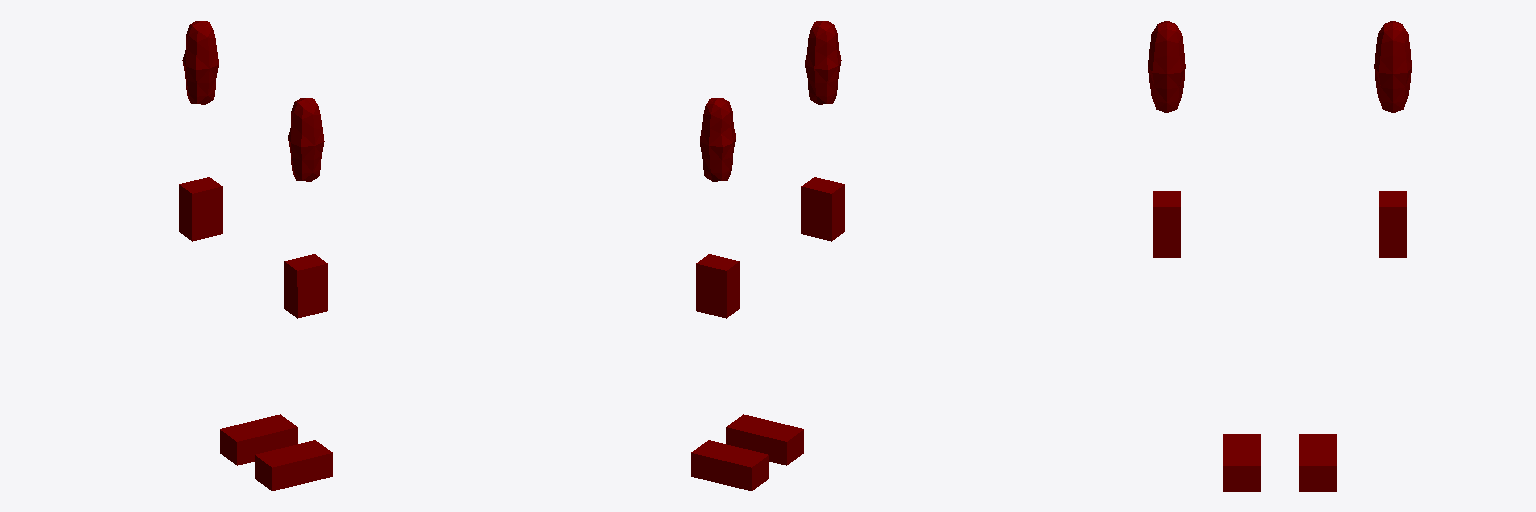
URDF robot description (human_joints):
<?xml version="1.0" ?>
<robot name="human_joints">

<!--#########################################################-->
<!--########################LINKS###########################-->
<!--#########################################################-->

<link name="base_link">
	<origin xyz="0 0 0.5"/>
</link>

<!--########################CORE###########################-->
<link name="core">
	<visual>
	<geometry>
		<mesh filename="package://bp1human/model/meshes/body.dae" scale="0.6 0.6 0.6"/>
		<!--cylinder length="1" radius="0.3"/>-->			
	</geometry>
	<origin xyz="0 0 0.2"/>
	<material name="blue">
	<color rgba="0 0 0.5 1"/>
	</material>
	</visual>	
</link>

<!--########################HEAD###########################-->
<link name="head">
	<visual>
	<geometry>
	<mesh filename="package://bp1human/model/meshes/head.dae" scale="1 1 1"/>
	<!--<cylinder length="0.4" radius="0.2"/>-->
	</geometry>
	<origin xyz="0.15 0 -0.1" rpy="0 0 0"/>
	<material name="white">
	<color rgba="1 1 1 1"/>
	</material>
	</visual>
</link>

<!--########################UPPER-ARM###########################-->
<link name="upper_arm_left">
	<visual>
		<geometry>
			<mesh filename="package://bp1human/model/meshes/upper_arm.dae" scale="0.5 0.5 0.5"/>
			<!--<cylinder length="0.5" radius="0.1"/>-->
		</geometry>
		<origin xyz="0 0 -0.5" rpy="0 0 0"/>
		<material name="dark_red">
			<color rgba="0.5 0 0 1"/>
		</material>		
	</visual>	
</link>

<link name="upper_arm_right">
	<visual>
		<geometry>
			<mesh filename="package://bp1human/model/meshes/upper_arm.dae" scale="0.5 0.5 0.5"/>
			<!--<cylinder length="0.5" radius="0.1"/>-->
		</geometry>
		<origin xyz="0 0 -0.5" rpy="0 0 0"/>
		<material name="dark_red"/>
	</visual>
</link>

<!--########################UNDER-ARM###########################-->
<link name="under_arm_left">
	<visual>
		<geometry>
			<mesh filename="package://bp1human/model/meshes/under_arm.dae" scale="0.5 0.5 0.5"/>
			<!--<cylinder length="0.5" radius="0.1"/>-->
		</geometry>
		<origin xyz="0 0 -0.5" rpy="0 0 0"/>
		<material name="white"/>	
	</visual>
</link>
<link name="under_arm_right">
	<visual>
		<geometry>
			<mesh filename="package://bp1human/model/meshes/under_arm.dae" scale="0.5 0.5 0.5"/>
			<!--<cylinder length="0.5" radius="0.1"/>-->
		</geometry>
		<origin xyz="0 0 -0.5" rpy="0 0 0"/>
		<material name="white"/>	
	</visual>
</link>

<!--########################HAND###########################-->
<link name="hand_left">
	<visual>
		<geometry>
			<box size="0.3 0.2 0.15"/>
		</geometry>
		<origin xyz="0 0 -0.05" rpy="1.57 1.57 0"/>
		<material name="dark_red"/>			
	</visual>
</link>

<link name="hand_right">
	<visual>
		<geometry>
			<box size="0.3 0.2 0.15"/>
		</geometry>
		<origin xyz="0 0 -0.05" rpy="1.57 1.57 0"/>
		<material name="dark_red"/>	
	</visual>
</link>

<!--########################UPPER-LEG###########################-->
<link name="upper_leg_left">
	<visual>
		<geometry>
			<mesh filename="package://bp1human/model/meshes/upper_leg.dae" scale="0.8 0.8 0.8"/>
			<!--<cylinder length="0.8" radius="0.155"/>-->
		</geometry>
		<origin xyz="0 0 -0.8" rpy="0 0 0"/>
		<material name="dark_red"/>	
	</visual>
</link>

<link name="upper_leg_right">
	<visual>
		<geometry>
			<mesh filename="package://bp1human/model/meshes/upper_leg.dae" scale="0.8 0.8 0.8"/>
			<!--<cylinder length="0.8" radius="0.155"/>-->
		</geometry>
		<origin xyz="0 0 -0.8" rpy="0 0 0"/>
		<material name="dark_red"/>
	</visual>
</link>

<!--########################UNDER-LEG###########################-->
<link name="under_leg_left">
	<visual>
		<geometry>
			<mesh filename="package://bp1human/model/meshes/under_leg.dae" scale="0.7 0.7 0.7"/>
			<!--<cylinder length="0.6" radius="0.125"/>-->
		</geometry>
		<origin xyz="0 0 -0.7" rpy="0 0 0"/>
		<material name="white"/>			
	</visual>
</link>

<link name="under_leg_right">
	<visual>
		<geometry>
			<mesh filename="package://bp1human/model/meshes/under_leg.dae" scale="0.7 0.7 0.7"/>
			<!--<cylinder length="0.6" radius="0.125"/>-->
		</geometry>
		<origin xyz="0 0 -0.7" rpy="0 0 0"/>
		<material name="white"/>	
	</visual>
</link>

<!--########################FEET###########################-->
<link name="foot_left">
	<visual>
		<geometry>			
			<box size="0.4 0.2 0.15"/>
		</geometry>
		<origin xyz="0.15 0 0" rpy="0 0 0"/>
		<material name="dark_red"/>			
	</visual>
</link>

<link name="foot_right">
	<visual>
		<geometry>
			<box size="0.4 0.2 0.15"/>
		</geometry>
		<origin xyz="0.15 0 0" rpy="0 0 0"/>
		<material name="dark_red"/>	
	</visual>
</link>

<!--#########################################################-->
<!--#####################JOINT-LINKS#########################-->
<!--#########################################################-->

<link name="neck_1"> 			<origin xyz="0 0 0" rpy="0 0 0"/> </link>
<link name="neck_2"> 			<origin xyz="0 0 0" rpy="0 0 0"/> </link>
<link name="core_1"> 			<origin xyz="0 0 0" rpy="0 0 0"/> </link>
<link name="core_2"> 			<origin xyz="0 0 0" rpy="0 0 0"/> </link>
<link name="left_shoulder_1"> 	<origin xyz="0 0 0" rpy="0 0 0"/> </link>
<link name="left_shoulder_2"> 	<origin xyz="0 0 0" rpy="0 0 0"/> </link>
<link name="right_shoulder_1"> 	<origin xyz="0 0 0" rpy="0 0 0"/> </link>
<link name="right_shoulder_2"> 	<origin xyz="0 0 0" rpy="0 0 0"/> </link>
<link name="left_hand_1">		<origin xyz="0 0 0" rpy="0 0 0"/> </link>
<link name="right_hand_1">		<origin xyz="0 0 0" rpy="0 0 0"/> </link>
<link name="left_hip_1"> 		<origin xyz="0 0 0" rpy="0 0 0"/> </link>
<link name="left_hip_2"> 		<origin xyz="0 0 0" rpy="0 0 0"/> </link>
<link name="right_hip_1"> 		<origin xyz="0 0 0" rpy="0 0 0"/> </link>
<link name="right_hip_2"> 		<origin xyz="0 0 0" rpy="0 0 0"/> </link>
<link name="left_foot_1"> 		<origin xyz="0 0 0" rpy="0 0 0"/> </link>
<link name="left_foot_2"> 		<origin xyz="0 0 0" rpy="0 0 0"/> </link>
<link name="right_foot_1">		<origin xyz="0 0 0" rpy="0 0 0"/> </link>
<link name="right_foot_2"> 		<origin xyz="0 0 0" rpy="0 0 0"/> </link>

<!--#########################################################-->
<!--########################JOINTS###########################-->
<!--#########################################################-->

<!--########################NECK###########################-->

<!--###jointsB[0]###-->
<joint name="b_neck_x" type="revolute">
	<origin xyz="0 0 1"/>
	<parent link="core"/>
	<child link="neck_1"/>
	<axis xyz="1 0 0"/>
	<limit effort="30" velocity="1.0" lower="-0.78" upper="0.78" />
</joint>

<!--###jointsB[1]###-->
<joint name="b_neck_y" type="revolute">
	<origin xyz="0 0 0"/>
	<parent link="neck_1"/>
	<child link="neck_2"/>
	<axis xyz="0 1 0"/>
	<limit effort="30" velocity="1.0" lower="-1.36" upper="1.36" />
</joint>

<!--###jointsB[2]###-->
<joint name="b_neck_z" type="revolute">
	<origin xyz="0 0 0"/>
	<parent link="neck_2"/>
	<child link="head"/>
	<axis xyz="0 0 1"/>
	<limit effort="30" velocity="1.0" lower="-1.57" upper="1.57" />
</joint>

<!--########################CORE###########################-->

<!--###jointsB[3]###-->
<joint name="b_core_x" type="revolute">
	<origin xyz="0 0 0"/>
	<parent link="base_link"/>
	<child link="core_1"/>
	<axis xyz="1 0 0"/>
	<limit effort="30" velocity="1.0" lower="-1" upper="1.17" />
</joint>

<!--###jointsB[4]###-->
<joint name="b_core_y" type="revolute">
	<origin xyz="0 0 0"/>
	<parent link="core_1"/>
	<child link="core_2"/>
	<axis xyz="0 1 0"/>
	<limit effort="30" velocity="1.0" lower="-1" upper="1.17" />
</joint>

<!--###jointsB[5]###-->
<joint name="b_core_z" type="revolute">
	<origin xyz="0 0 0"/>
	<parent link="core_2"/>
	<child link="core"/>
	<axis xyz="0 0 1"/>
	<limit effort="30" velocity="1.0" lower="-1" upper="1.17" />
</joint>

<!--########################SHOULDER###########################-->

<!--###jointsL[0]###-->
<joint name="l_shoulder_x" type="revolute">
	<origin xyz="0 0.6 .95"/>
	<parent link="core"/>
	<child link="left_shoulder_1"/>
	<axis xyz="1 0 0"/>
	<limit effort="30" velocity="1.0" lower="-0.34" upper="3.14" />
</joint>

<!--###jointsL[1]###-->
<joint name="l_shoulder_y" type="revolute">
	<origin xyz="0 0 0"/>
	<parent link="left_shoulder_2"/>
	<child link="upper_arm_left"/>
	<axis xyz="0 -1 0"/>
	<limit effort="30" velocity="1.0" lower="-0.69" upper="2.96" />
</joint>

<!--###jointsL[2]###-->
<joint name="l_shoulder_z" type="revolute">
	<origin xyz="0 0 0"/>
	<parent link="left_shoulder_1"/>
	<child link="left_shoulder_2"/>
	<axis xyz="0 0 1"/>
	<limit effort="30" velocity="1.0" lower="-1.57" upper="1.57" />
</joint>

<!--###jointsR[0]###-->
<joint name="r_shoulder_x" type="revolute">
	<origin xyz="0 -0.6 0.95"/>
	<parent link="core"/>
	<child link="right_shoulder_1"/>
	<axis xyz="-1 0 0"/>
	<limit effort="30" velocity="1.0" lower="-0.34" upper="3.14" />
</joint>

<!--###jointsR[1]###-->
<joint name="r_shoulder_y" type="revolute">
	<origin xyz="0 0 0"/>
	<parent link="right_shoulder_2"/>
	<child link="upper_arm_right"/>
	<axis xyz="0 1 0"/>
	<limit effort="30" velocity="1.0" lower="-0.69" upper="2.96" />
</joint>

<!--###jointsR[2]###-->
<joint name="r_shoulder_z" type="revolute">
	<origin xyz="0 0 0"/>
	<parent link="right_shoulder_1"/>
	<child link="right_shoulder_2"/>
	<axis xyz="0 0 -1"/>
	<limit effort="30" velocity="1.0" lower="-1.57" upper="1.57" />
</joint>

<!--########################ELBOW###########################-->

<!--###jointsL[3]###-->
<joint name="l_elbow_y" type="revolute">
	<origin xyz="0 0 -0.5"/>
	<parent link="upper_arm_left"/>
	<child link="under_arm_left"/>
	<axis xyz="0 1 0"/>
	<limit effort="30" velocity="1.0" lower="-2.61" upper="0" />
</joint>

<!--###jointsR[3]###-->
<joint name="r_elbow_y" type="revolute">
	<origin xyz="0 0 -0.5"/>
	<parent link="upper_arm_right"/>
	<child link="under_arm_right"/>
	<axis xyz="0 1 0"/>
	<limit effort="30" velocity="1.0" lower="-2.61" upper="0" />
</joint>

<!--########################WRIST###########################-->

<!--###jointsL[4]###-->
<joint name="l_wrist_x" type="revolute">
	<origin xyz="0 0 -0.6"/>
	<parent link="under_arm_left"/>
	<child link="left_hand_1"/>
	<axis xyz="1 0 0"/>
	<limit effort="30" velocity="1.0" lower="0" upper="2.4" />
</joint>

<!--###jointsL[5]###-->
<joint name="l_wrist_y" type="revolute">
	<origin xyz="0 0 0"/>
	<parent link="left_hand_1"/>
	<child link="hand_left"/>
	<axis xyz="0 1 0"/>
	<limit effort="30" velocity="1.0" lower="0" upper="2.4" />
</joint>

<!--###jointsR[4]###-->
<joint name="r_wrist_x" type="revolute">
	<origin xyz="0 0 -0.6"/>
	<parent link="under_arm_right"/>
	<child link="right_hand_1"/>
	<axis xyz="1 0 0"/>
	<limit effort="30" velocity="1.0" lower="0" upper="2.4" />
</joint>

<!--###jointsR[5]###-->
<joint name="r_wrist_y" type="revolute">
	<origin xyz="0 0 0"/>
	<parent link="right_hand_1"/>
	<child link="hand_right"/>
	<axis xyz="0 1 0"/>
	<limit effort="30" velocity="1.0" lower="0" upper="2.4" />
</joint>

<!--########################HIP###########################-->

<!--###jointsL[6]###-->
<joint name="l_hip_x" type="revolute">
	<origin xyz="0 0.2 0"/>
	<parent link="base_link"/>
	<child link="left_hip_1"/>
	<axis xyz="1 0 0"/>
	<limit effort="30" velocity="1.0" lower="0.0" upper="3.14" />
</joint>

<!--###jointsL[7]###-->
<joint name="l_hip_y" type="revolute">
	<origin xyz="0 0 0"/>
	<parent link="left_hip_2"/>
	<child link="upper_leg_left"/>
	<axis xyz="0 1 0"/>
	<limit effort="30" velocity="1.0" lower="-3.14" upper="1.17" />
</joint>

<!--###jointsL[8]###-->
<joint name="l_hip_z" type="revolute">
	<origin xyz="0 0 0"/>
	<parent link="left_hip_1"/>
	<child link="left_hip_2"/>
	<axis xyz="0 0 1"/>
	<limit effort="30" velocity="1.0" lower="-0.73" upper="1.49" />
</joint>

<!--###jointsR[6]###-->
<joint name="r_hip_x" type="revolute">
	<origin xyz="0 -0.2 0"/>
	<parent link="base_link"/>
	<child link="right_hip_1"/>
	<axis xyz="1 0 0"/>
	<limit effort="30" velocity="1.0" lower="-3.14" upper="0.0" />
</joint>

<!--###jointsR[7]###-->
<joint name="r_hip_y" type="revolute">
	<origin xyz="0 0 0"/>
	<parent link="right_hip_2"/>
	<child link="upper_leg_right"/>
	<axis xyz="0 1 0"/>
	<limit effort="30" velocity="1.0" lower="-3.14" upper="1.17" />
</joint>

<!--###jointsR[8]###-->
<joint name="r_hip_z" type="revolute">
	<origin xyz="0 0 0"/>
	<parent link="right_hip_1"/>
	<child link="right_hip_2"/>
	<axis xyz="0 0 1"/>
	<limit effort="30" velocity="1.0" lower="-2.33" upper="0.9" />
</joint>

<!--########################KNEE###########################-->

<!--###jointsL[9]###-->
<joint name="l_knee_y" type="revolute">
	<origin xyz="0 0 -0.8"/>
	<parent link="upper_leg_left"/>
	<child link="under_leg_left"/>
	<axis xyz="0 1 0"/>
	<limit effort="30" velocity="1.0" lower="0" upper="2.4" />
</joint>

<!--###jointsR[9]###-->
<joint name="r_knee_y" type="revolute">
	<origin xyz="0 0 -0.8"/>
	<parent link="upper_leg_right"/>
	<child link="under_leg_right"/>
	<axis xyz="0 1 0"/>
	<limit effort="30" velocity="1.0" lower="0" upper="2.4" />
</joint>

<!--########################ANKLE###########################-->

<!--###jointsL[10]###-->
<joint name="l_ankle_x" type="revolute">
	<origin xyz="0 0 -0.725"/>
	<parent link="under_leg_left"/>
	<child link="left_foot_1"/>
	<axis xyz="1 0 0"/>
	<limit effort="30" velocity="1.0" lower="0" upper="2.4" />
</joint>

<!--###jointsL[11]###-->
<joint name="l_ankle_y" type="revolute">
	<origin xyz="0 0 0"/>
	<parent link="left_foot_1"/>
	<child link="left_foot_2"/>
	<axis xyz="0 1 0"/>
	<limit effort="30" velocity="1.0" lower="0" upper="2.4" />
</joint>

<!--###jointsL[12]###-->
<joint name="l_ankle_z" type="revolute">
	<origin xyz="0 0 0"/>
	<parent link="left_foot_2"/>
	<child link="foot_left"/>
	<axis xyz="0 0 1"/>
	<limit effort="30" velocity="1.0" lower="0" upper="2.4" />
</joint>

<!--###jointsR[10]###-->
<joint name="r_ankle_x" type="revolute">
	<origin xyz="0 0 -0.725"/>
	<parent link="under_leg_right"/>
	<child link="right_foot_1"/>
	<axis xyz="1 0 0"/>
	<limit effort="30" velocity="1.0" lower="0" upper="2.4" />
</joint>

<!--###jointsR[11]###-->
<joint name="r_ankle_y" type="revolute">
	<origin xyz="0 0 0"/>
	<parent link="right_foot_1"/>
	<child link="right_foot_2"/>
	<axis xyz="0 1 0"/>
	<limit effort="30" velocity="1.0" lower="0" upper="2.4" />
</joint>

<!--###jointsR[12]###-->
<joint name="r_ankle_z" type="revolute">
	<origin xyz="0 0 0"/>
	<parent link="right_foot_2"/>
	<child link="foot_right"/>
	<axis xyz="0 0 1"/>
	<limit effort="30" velocity="1.0" lower="0" upper="2.4" />
</joint>

</robot>

--- Facts derived from the render (not from the file) ---
Views: 3 orthographic renders of the robot side by side, from view 1: azimuth 30°, elevation 25°; view 2: azimuth 150°, elevation 25°; view 3: azimuth 270°, elevation 25°.
Model human_joints with 33 links and 32 joints (32 revolute), rooted at base_link, posed every joint at zero.
Visible links, largest first — view 1: foot_right, foot_left, hand_right, hand_left, upper_arm_right, upper_arm_left; view 2: foot_left, foot_right, hand_left, hand_right, upper_arm_left, upper_arm_right; view 3: upper_arm_right, upper_arm_left, foot_left, foot_right, hand_left, hand_right.
Link boxes in pixels (x1,y1,x2,y2): foot_right: (255, 440, 332, 490); foot_left: (220, 414, 297, 465); hand_right: (284, 254, 327, 318); hand_left: (179, 177, 222, 241); upper_arm_right: (288, 98, 324, 181); upper_arm_left: (182, 21, 218, 104); foot_left: (691, 440, 768, 490); foot_right: (726, 414, 803, 465); hand_left: (696, 254, 739, 318); hand_right: (801, 177, 844, 241); upper_arm_left: (700, 98, 735, 181); upper_arm_right: (805, 21, 841, 104); upper_arm_right: (1148, 21, 1185, 112); upper_arm_left: (1374, 21, 1411, 112); foot_left: (1299, 434, 1336, 491); foot_right: (1223, 434, 1260, 491); hand_left: (1379, 191, 1406, 257); hand_right: (1153, 191, 1180, 257).
Size in the robot's own frame: 0.4503 by 1.4 by 2.58 metres.
Meshes: 6 distinct files referenced, 2 mesh visuals loaded (1 Collada DAE); not drawn: 8 (reference not matched to a file when rendering).